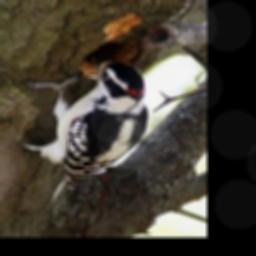Woodpecker: (23, 55, 148, 198)
